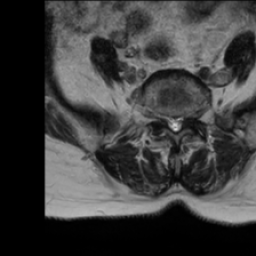CCS_severe_stenosis: (172, 111, 178, 137)
LFS_stenosis: (185, 104, 193, 126)
LLS_normal: (178, 110, 185, 133)
RFS_stenosis: (159, 108, 166, 127)
RLS_normal: (166, 110, 172, 133)
